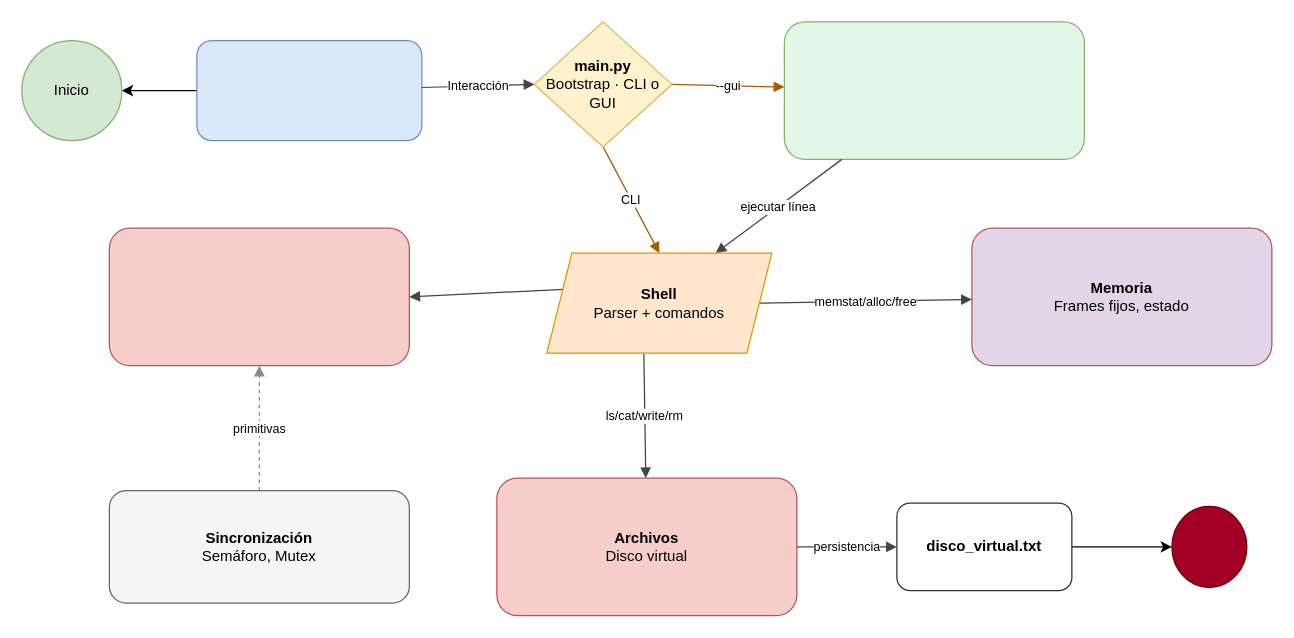
This 1294x638 diagram has some shape labels left out. Here are the shapes that lost their labels. From the top down, the box of each, then its label:
(196, 39, 422, 141): Usuario Interacción
(783, 21, 1084, 159): GUI (Tkinter) Consola, entrada, atajos
(108, 227, 409, 366): Procesos Round-Robin, cola READY hilo scheduler
(1171, 505, 1247, 588): FIN
